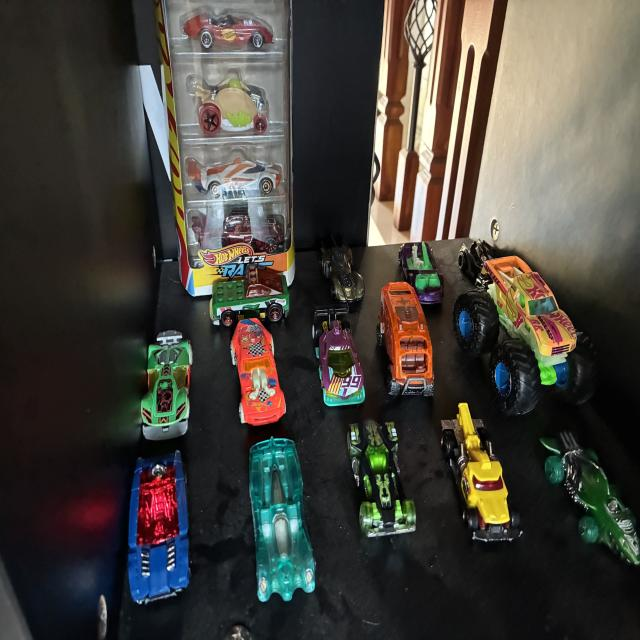cars: (543, 433, 640, 564), (211, 281, 288, 425), (442, 403, 520, 541), (250, 438, 315, 601), (349, 421, 415, 536), (378, 282, 433, 395), (314, 308, 364, 404)
